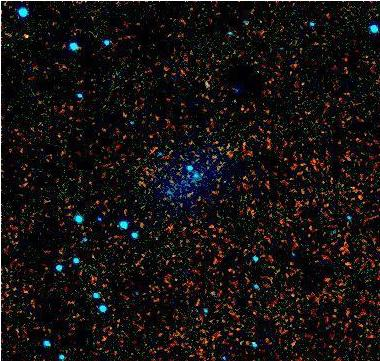star: (8, 25, 38, 55)
